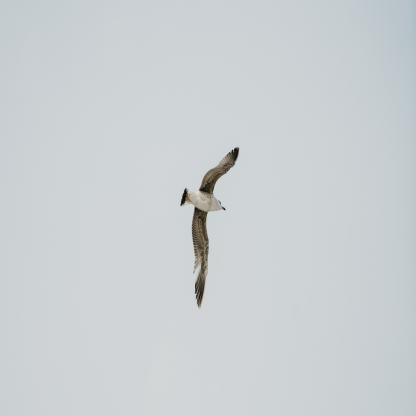bird: (180, 147, 240, 308)
